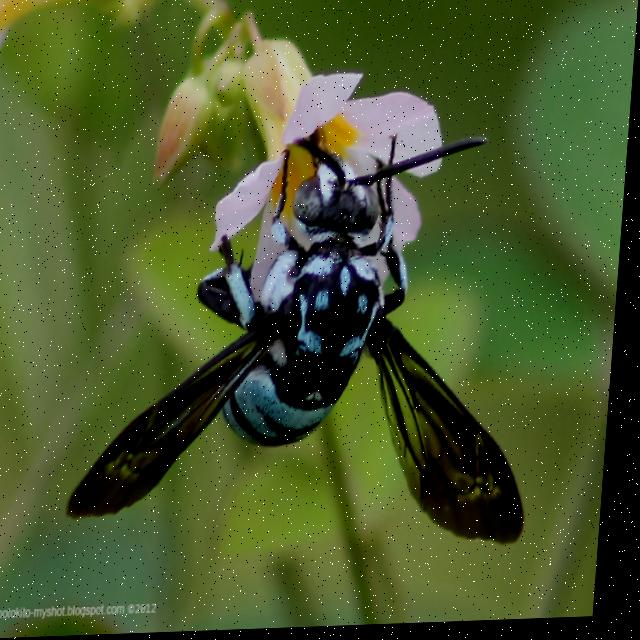Thyreus: (65, 121, 562, 571)
